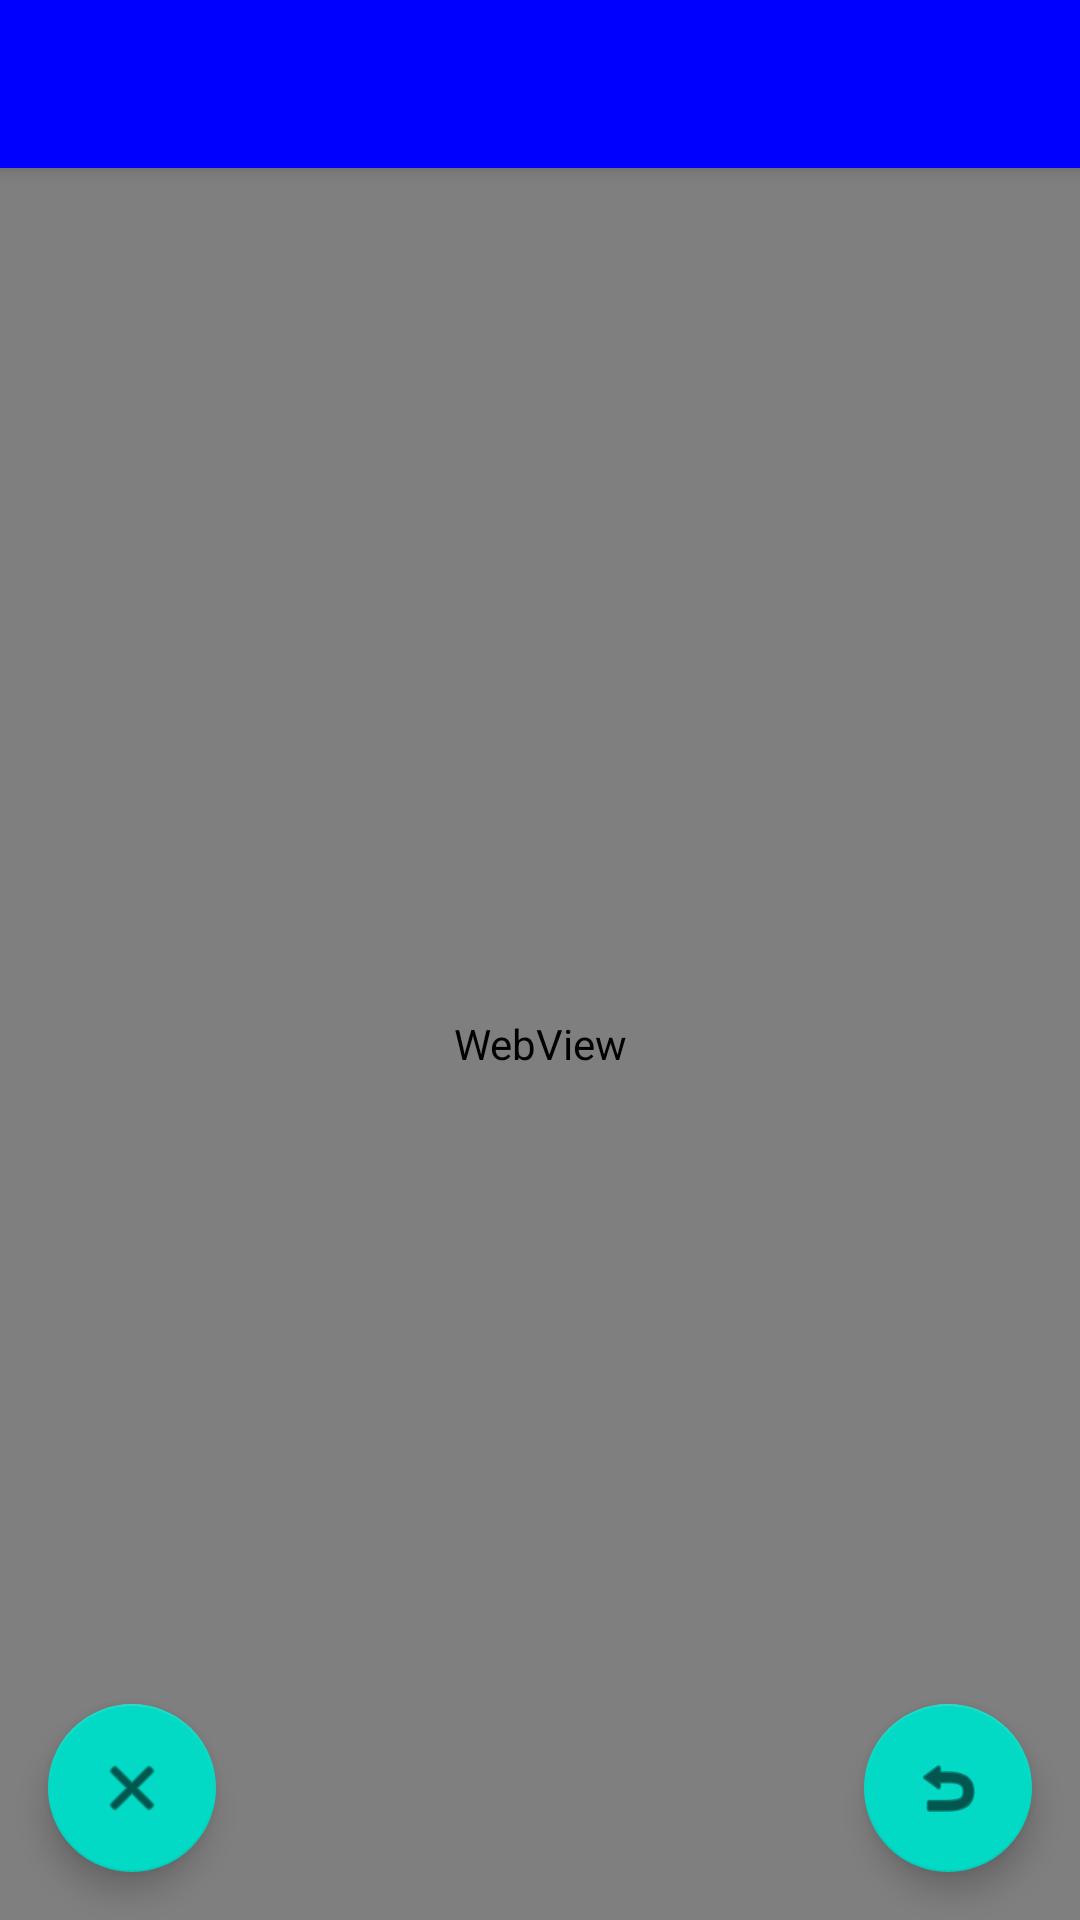

Where to tap for icons on this 1080 × 1920 app screen, as point (x, y):
close clear cancel: point (132, 1788)
revert: point (948, 1788)
